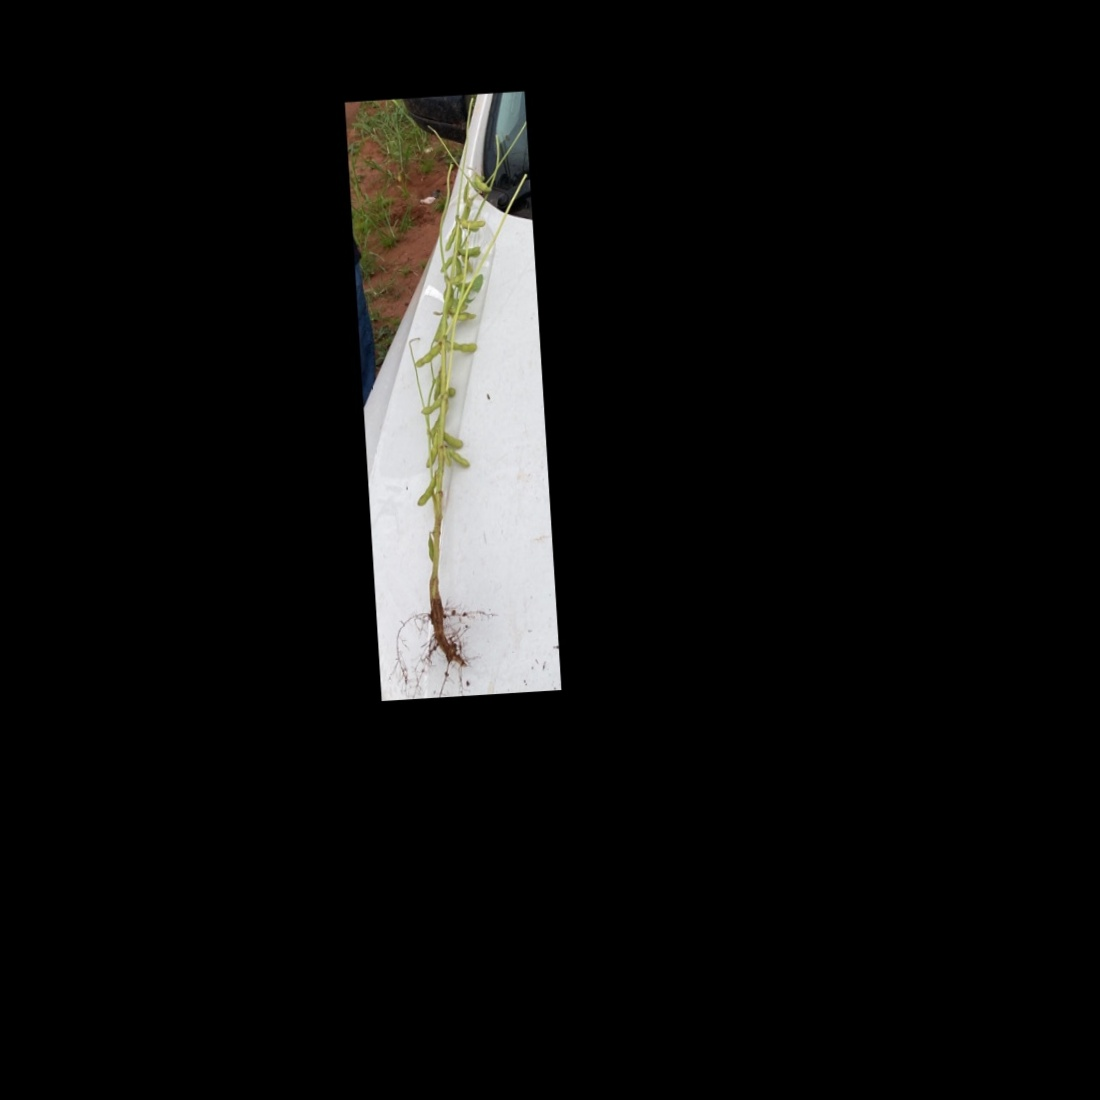pod: (408, 468, 439, 508), (411, 337, 445, 372), (446, 445, 472, 471), (419, 394, 443, 419), (441, 429, 464, 450), (450, 338, 478, 355), (424, 533, 436, 563)
soy: (390, 126, 521, 661)
